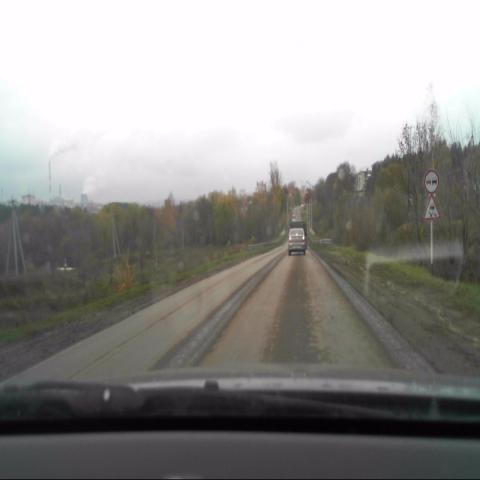1_15: (424, 196, 438, 221)
